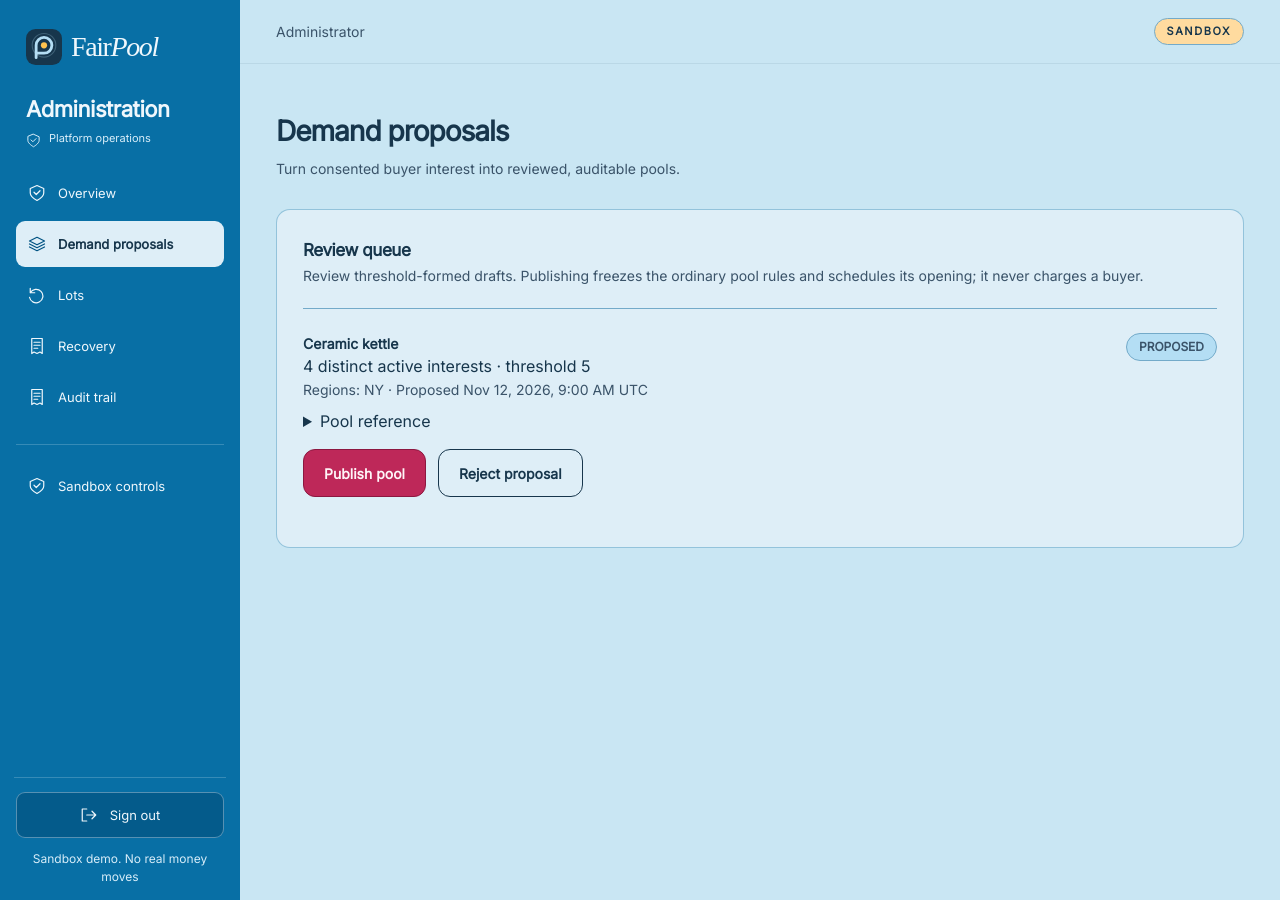
lets an operator reject a proposed draft
The image size is (1280, 900).
Click the button "Reject proposal".
click(510, 473)  # box [438, 449, 583, 497]
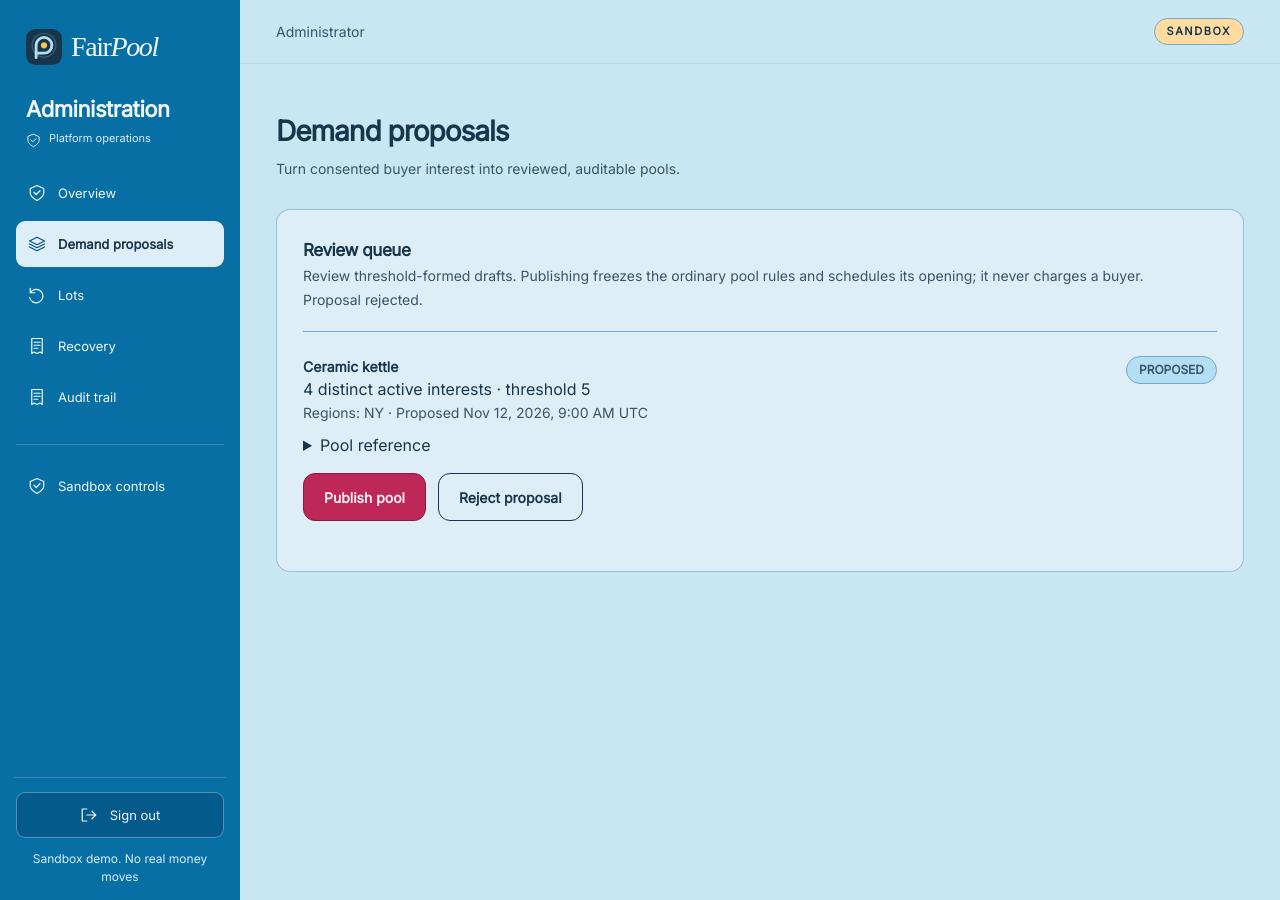
Expected: the text "Proposal rejected." is shown, [303, 291, 423, 308]
